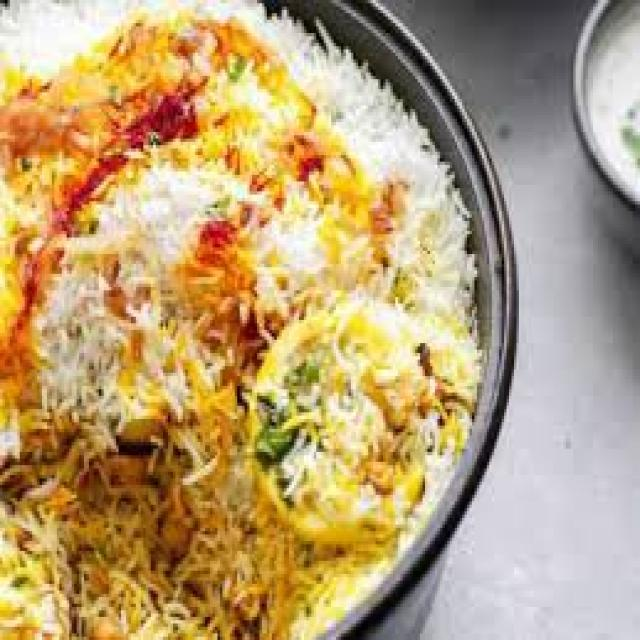chicken biryani: (7, 32, 368, 640)
